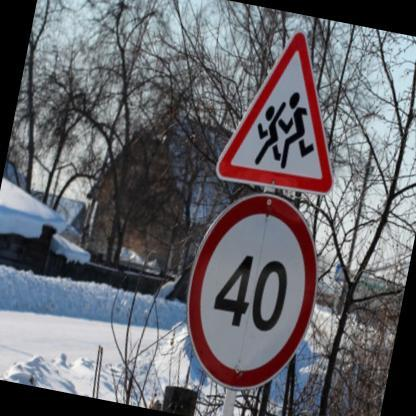road_sign: (187, 193, 315, 390), (217, 32, 332, 193)
